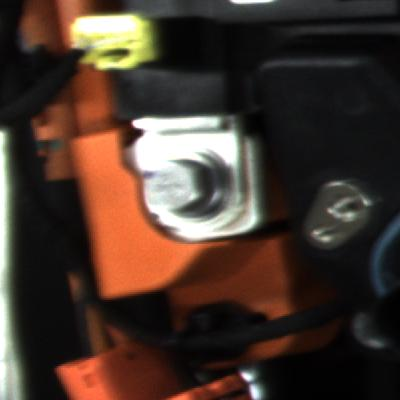nut_b: (144, 143, 232, 233)
